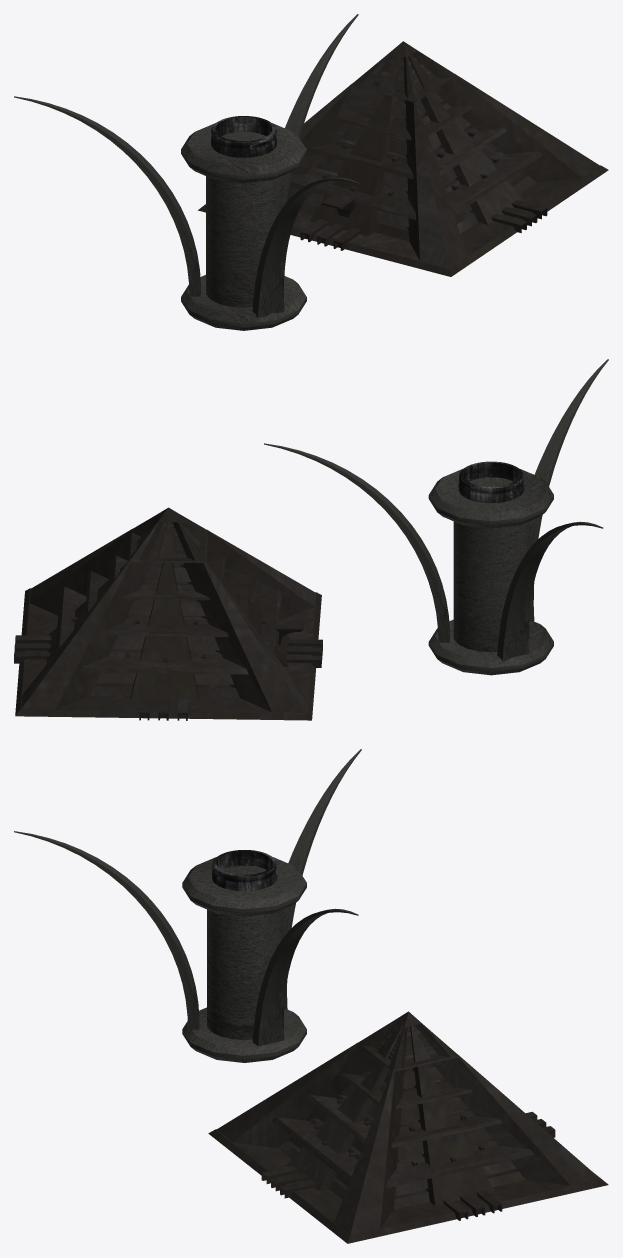
3 views of the same model, one above another, from view 1: azimuth 30°, elevation 25°; view 2: azimuth 150°, elevation 25°; view 3: azimuth 270°, elevation 25° (orthographic).
Visible parts, largest first — view 1: tmiotacza, portal1, Loft001; view 2: tmiotacza, portal1, Loft001; view 3: tmiotacza, portal1, Loft001.
Boxes of the visible parts, box(x1,y1,x2,y2) form: tmiotacza: box(198, 41, 608, 276); portal1: box(14, 14, 359, 330); Loft001: box(210, 116, 276, 157); tmiotacza: box(14, 507, 322, 720); portal1: box(264, 359, 608, 675); Loft001: box(458, 461, 524, 503); tmiotacza: box(208, 1011, 608, 1243); portal1: box(14, 749, 361, 1062); Loft001: box(212, 850, 277, 891).
Size of the model in its own units: 22.34 by 7.69 by 19.73.
3 materials, 3 textured.
